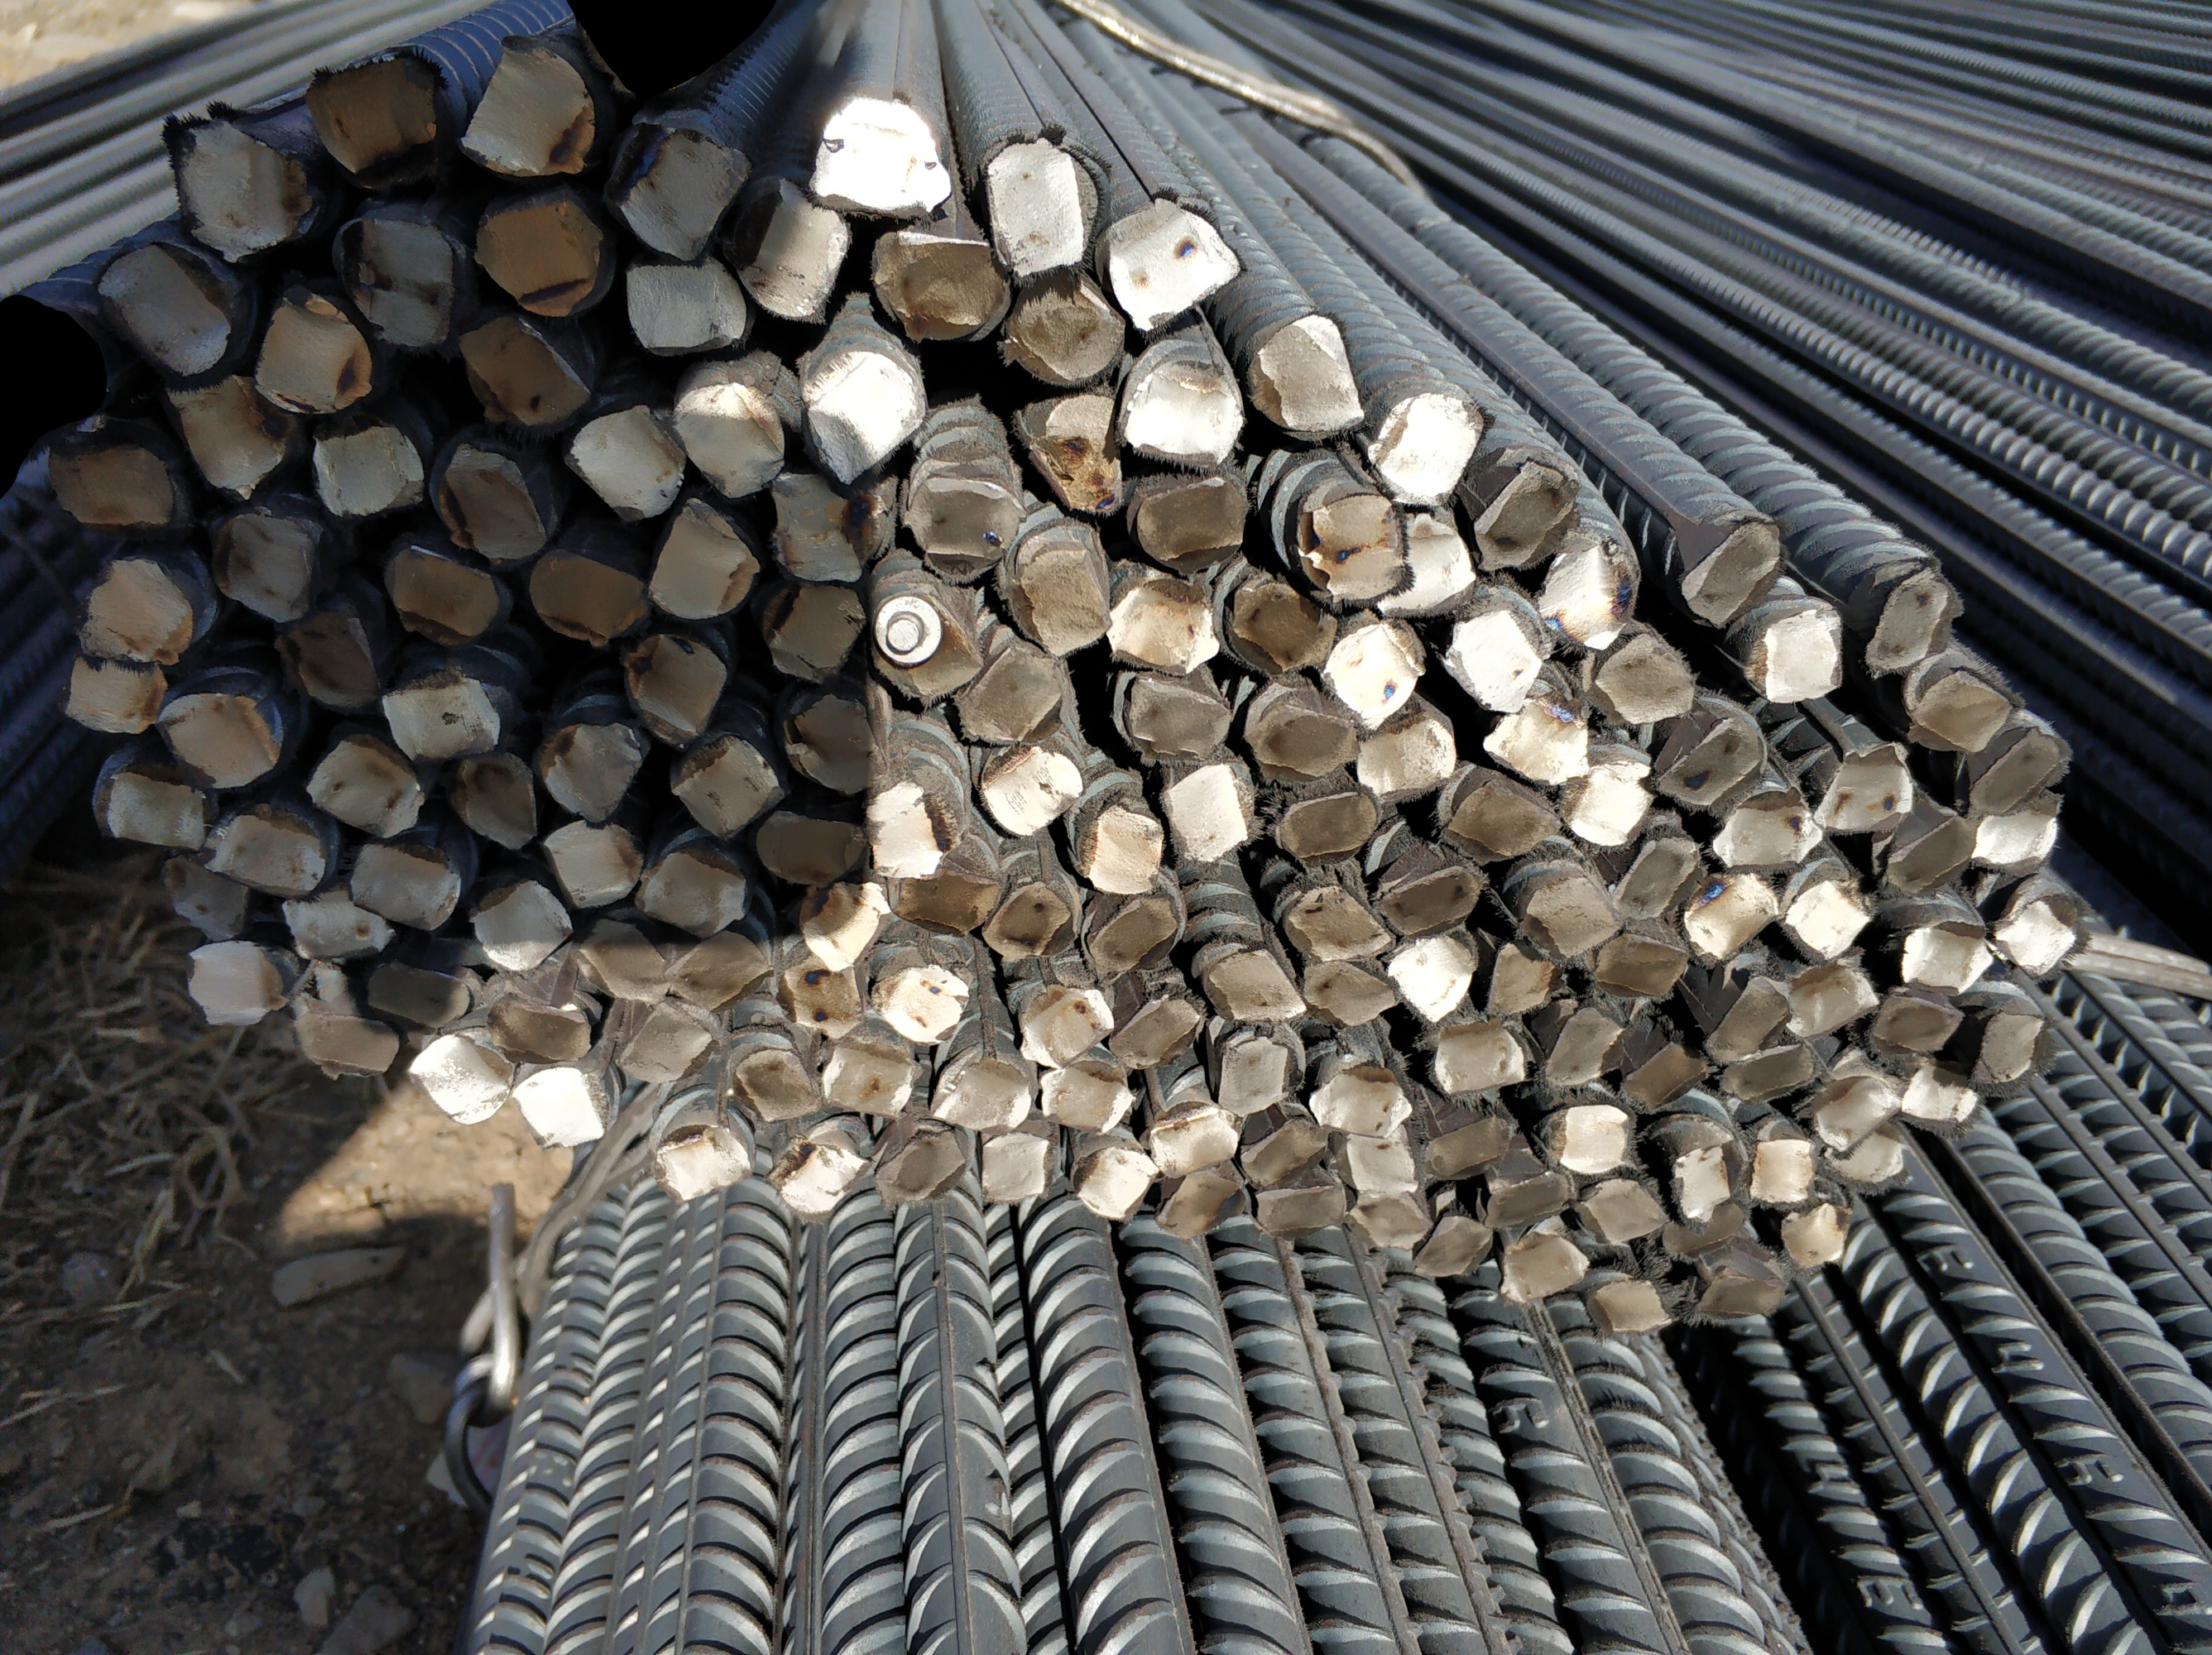rebar: (160, 103, 315, 264), (1096, 184, 1246, 334), (462, 26, 610, 177), (306, 54, 457, 195), (327, 209, 471, 353), (975, 125, 1109, 278), (806, 89, 959, 221), (738, 170, 858, 332), (617, 120, 751, 263), (867, 207, 1004, 344), (448, 304, 594, 431), (467, 195, 610, 323), (96, 242, 233, 372), (803, 344, 930, 485), (639, 489, 766, 626), (1114, 351, 1249, 473), (1366, 381, 1489, 511), (996, 264, 1128, 386), (202, 502, 330, 626), (169, 365, 287, 499), (612, 254, 759, 360), (1246, 309, 1368, 438), (900, 464, 1029, 586), (434, 436, 558, 562), (1291, 482, 1414, 605), (71, 549, 202, 666), (669, 376, 789, 501), (566, 398, 685, 525), (255, 289, 372, 417), (43, 429, 179, 537), (1020, 384, 1129, 516), (153, 683, 287, 791), (1672, 511, 1790, 633), (525, 542, 657, 650), (532, 708, 650, 824), (622, 622, 732, 748), (1152, 753, 1268, 869), (382, 534, 504, 645), (1225, 565, 1341, 680), (1472, 452, 1581, 574), (869, 588, 982, 704), (1133, 464, 1251, 575), (1373, 502, 1484, 621), (306, 417, 431, 522), (1434, 761, 1562, 862), (271, 610, 389, 720), (954, 640, 1072, 749), (1538, 528, 1642, 652), (374, 664, 504, 761), (1861, 562, 1970, 676), (1319, 619, 1428, 734), (671, 735, 787, 843), (765, 570, 871, 688), (1107, 666, 1237, 761), (202, 801, 328, 899), (1013, 537, 1114, 659), (766, 464, 867, 586), (306, 741, 429, 840), (1107, 572, 1220, 678), (348, 833, 466, 934), (1592, 624, 1705, 728), (634, 840, 749, 942), (1246, 683, 1362, 784), (1805, 737, 1922, 836), (1654, 709, 1765, 812), (278, 869, 398, 963), (784, 690, 890, 796), (1081, 880, 1183, 989), (1440, 608, 1543, 718), (466, 874, 575, 975), (59, 643, 172, 741), (87, 760, 209, 850), (1480, 692, 1593, 789), (577, 909, 679, 1014), (1906, 661, 2021, 753), (450, 748, 553, 850), (408, 1027, 511, 1130), (1076, 794, 1175, 901), (1510, 861, 1619, 956), (539, 812, 641, 913), (867, 775, 963, 883), (1272, 777, 1383, 869), (1752, 600, 1851, 702), (1965, 718, 2068, 817), (1559, 748, 1661, 847), (1696, 970, 1798, 1069), (1350, 708, 1454, 805), (978, 742, 1081, 840), (662, 925, 772, 1015), (162, 847, 264, 942), (1288, 874, 1395, 965), (890, 848, 1001, 935), (473, 876, 570, 975), (186, 934, 287, 1029), (923, 1041, 1027, 1133), (1376, 847, 1482, 937), (295, 994, 403, 1083), (1218, 1026, 1315, 1123), (1894, 902, 1991, 1000), (869, 956, 970, 1050), (1018, 977, 1121, 1069), (1779, 871, 1882, 963), (1781, 951, 1885, 1041), (1684, 867, 1779, 965), (1387, 932, 1484, 1027), (1607, 827, 1706, 921), (1990, 880, 2082, 980), (794, 878, 888, 975), (619, 994, 718, 1087), (754, 805, 862, 888), (1288, 947, 1395, 1031), (874, 1113, 964, 1212), (766, 1128, 865, 1219), (1204, 942, 1307, 1029), (1885, 803, 1981, 895), (509, 1060, 606, 1151), (813, 1033, 912, 1121), (1712, 794, 1826, 871), (652, 1121, 754, 1206), (987, 874, 1083, 965), (487, 986, 594, 1066), (1430, 1017, 1533, 1100), (780, 944, 867, 1041), (1310, 1057, 1411, 1140), (1661, 1127, 1746, 1224), (1967, 996, 2050, 1095), (1899, 1057, 1991, 1144), (1109, 989, 1202, 1074), (365, 958, 476, 1029), (1970, 798, 2070, 878), (1072, 1137, 1157, 1227), (1870, 987, 1964, 1069), (1540, 1001, 1626, 1088), (975, 1121, 1060, 1210), (732, 1041, 818, 1125), (1811, 1071, 1897, 1154), (1479, 939, 1566, 1020), (1720, 1033, 1821, 1102), (1037, 1060, 1133, 1133), (1237, 1109, 1328, 1186), (1156, 1170, 1249, 1243), (1498, 1229, 1590, 1300), (1623, 1036, 1708, 1113), (1340, 1121, 1425, 1198), (1599, 932, 1689, 1003), (1150, 1104, 1241, 1173), (1745, 1130, 1821, 1212), (1819, 1125, 1913, 1191), (1578, 1172, 1666, 1241), (1425, 1111, 1510, 1182), (1348, 1184, 1434, 1255), (1251, 1175, 1345, 1240), (1552, 1104, 1635, 1175), (1413, 1210, 1496, 1281), (1480, 1168, 1576, 1229), (1781, 1200, 1854, 1274), (1694, 1266, 1790, 1321), (1661, 1200, 1750, 1257), (1588, 1276, 1672, 1332)
